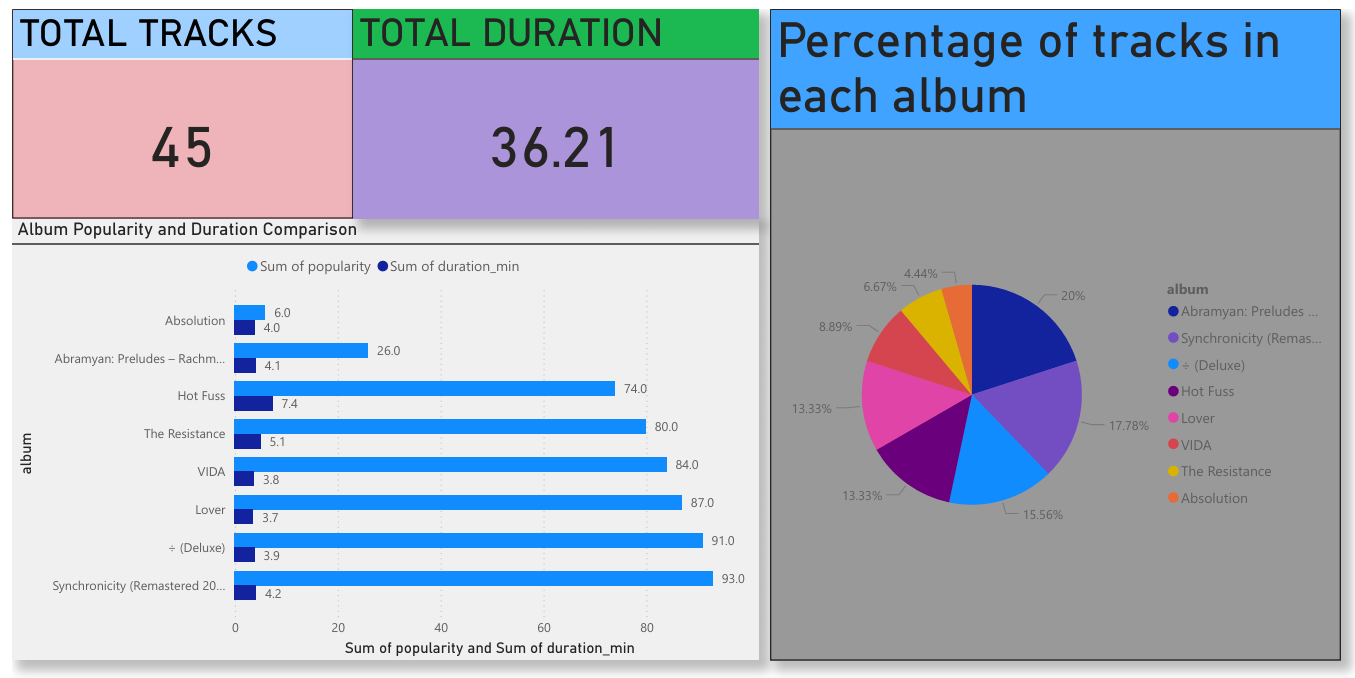

This screenshot's page, from the dashboard's own definition file:
{"tool":"powerbi","page":{"name":"Page 2","canvas":[1280,720],"ordinal":1},"visuals":[{"type":"clusteredBarChart","title":"Album Popularity and Duration Comparison","fields":{"Category":["spotify_db spotify_tracks.album"],"Y":["spotify_db spotify_tracks.popularity","spotify_db spotify_tracks.duration_min"]},"box":[0,199,709.4,419.9],"z":0},{"type":"card","title":"TOTAL TRACKS","fields":{"Values":["spotify_db spotify_tracks.id"]},"box":[0,0,323.8,199],"z":1000},{"type":"card","title":"TOTAL DURATION","fields":{"Values":["spotify_db spotify_tracks.duration_min"]},"box":[323.8,0,385.6,199],"z":1001},{"type":"pieChart","title":"Percentage of tracks in each album","fields":{"Category":["spotify_db spotify_tracks.album"],"Y":["spotify_db spotify_tracks.id"]},"box":[720.4,0,542,618.9],"z":1002}]}

Visuals, with their boxes on the page's 1280x720 design canvas (x1, y1, x2, y2). These are canvas units, not pixel positions in the 1355x678 screenshot, which may show the page scaled, cropped or inside an application window:
"Album Popularity and Duration Comparison" clusteredBarChart: crop(0, 199, 709, 619)
"TOTAL TRACKS" card: crop(0, 0, 324, 199)
"TOTAL DURATION" card: crop(324, 0, 709, 199)
"Percentage of tracks in each album" pieChart: crop(720, 0, 1262, 619)
